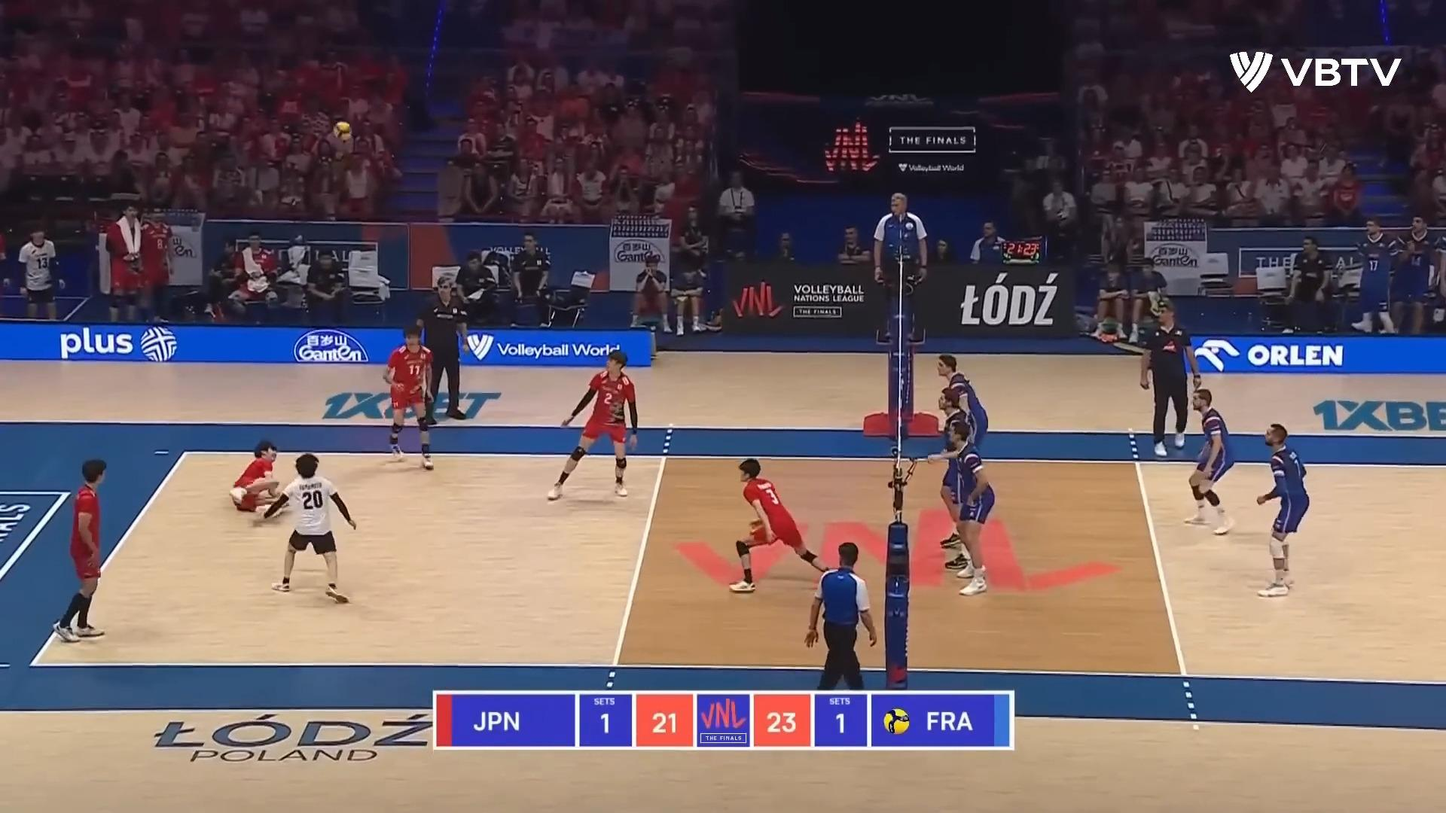ball: (330, 121, 355, 145)
